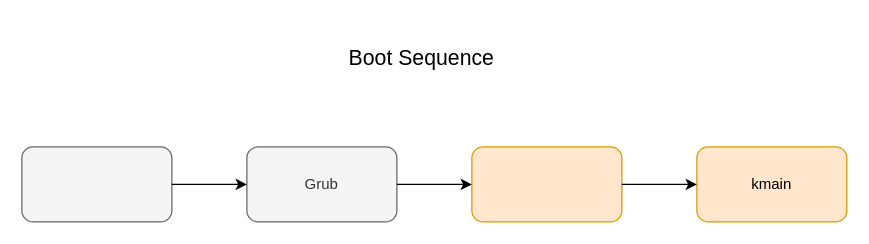
Image size: 869x244. Some labels were removed from this diagram. Each missing label, with the centre of its shape:
BIOS: the point at 96,184
kboot: the point at 546,184
